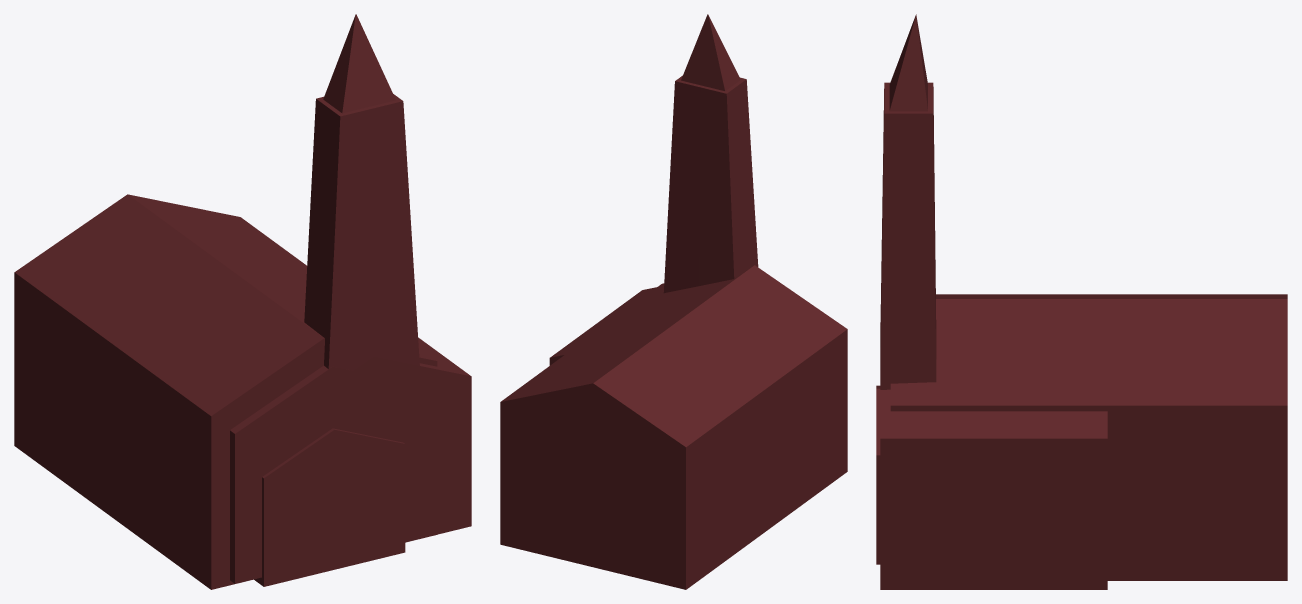
Rendered from BL_Buildings.fbx.
The picture shows the model from 3 angles, left to right: view 1: azimuth 30°, elevation 25°; view 2: azimuth 150°, elevation 25°; view 3: azimuth 270°, elevation 25°; orthographic projection. The views are drawn at different scales.
Visible parts, largest first — view 1: BL_HouseL, BL_Church, BL_HouseS, BL_HouseM; view 2: BL_HouseL, BL_Church; view 3: BL_HouseL, BL_Church, BL_HouseS.
Boxes of the visible parts, box(x1,y1,x2,y2) form: BL_HouseL: box(14, 194, 437, 589); BL_Church: box(304, 14, 471, 542); BL_HouseS: box(254, 428, 405, 586); BL_HouseM: box(230, 365, 430, 583); BL_HouseL: box(500, 265, 847, 589); BL_Church: box(549, 14, 758, 365); BL_HouseL: box(890, 294, 1287, 580); BL_Church: box(880, 14, 1107, 589); BL_HouseS: box(876, 385, 880, 564).
Bounding box in the file's own units: 865 × 1720 × 1196.
